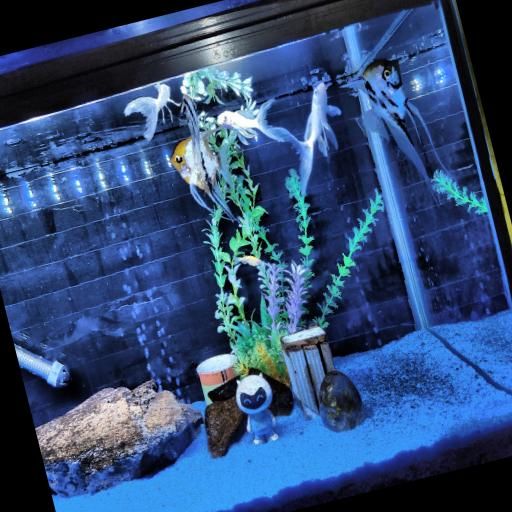Fish: (341, 60, 433, 179), (171, 95, 234, 220), (279, 83, 340, 195), (171, 132, 233, 219), (123, 84, 178, 141), (217, 99, 280, 144), (236, 255, 260, 266)
